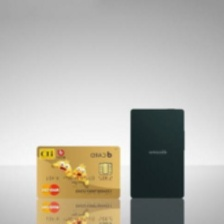book: (126, 105, 190, 200), (35, 143, 122, 201)
